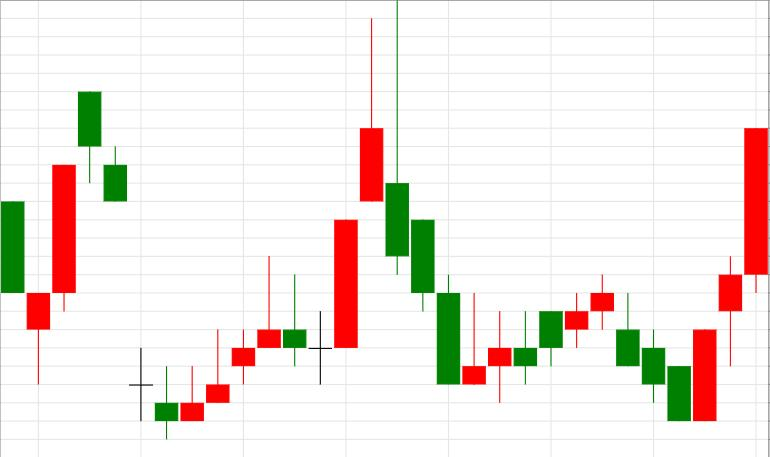bullish_engulfing_rise: (591, 274, 717, 421)
